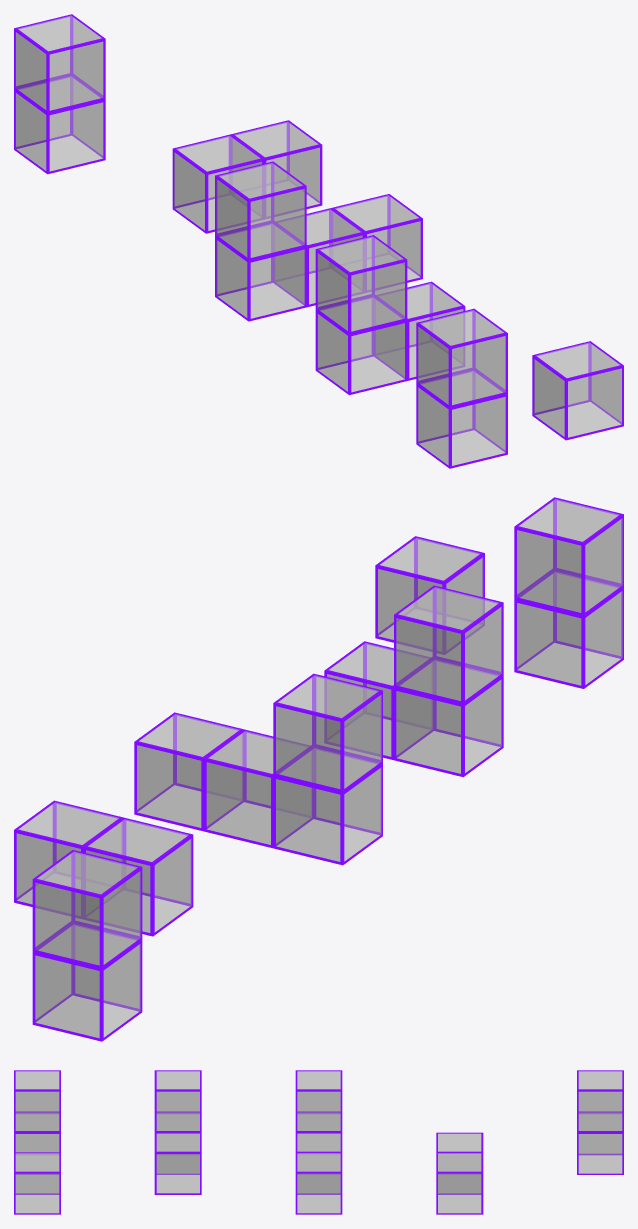
Rendered from (4)E Wall.fbx.
3 renders of one model, top to bottom at view 1: azimuth 30°, elevation 25°; view 2: azimuth 150°, elevation 25°; view 3: azimuth 270°, elevation 25°, orthographic. The views are drawn at different scales.
Visible parts, largest first — view 1: Wall.007, Wall.002, Wall.005, Wall.009, Wall.011, Wall.006, Wall.001, Wall.008, Wall.010, Wall.015, Wall.013, Wall.012 (+2 smaller); view 2: Wall.011, Wall.007, Wall.009, Wall.002, Wall.010, Wall.001, Wall.006, Wall.008, Wall.014, Wall.013, Wall.015, Wall.005 (+2 smaller); view 3: Wall.007, Wall.009, Wall.014, Wall.016, Wall.012, Wall.002, Wall.005, Wall.011, Wall.010, Wall.006, Wall.001, Wall.015 (+2 smaller).
Boxes of the visible parts, bbox=[...] form: Wall.007: bbox=[315, 235, 407, 334]; Wall.002: bbox=[416, 308, 507, 407]; Wall.005: bbox=[532, 341, 623, 440]; Wall.009: bbox=[215, 161, 306, 260]; Wall.011: bbox=[14, 14, 105, 113]; Wall.006: bbox=[315, 296, 407, 395]; Wall.001: bbox=[416, 369, 507, 468]; Wall.008: bbox=[215, 222, 306, 321]; Wall.010: bbox=[14, 75, 105, 174]; Wall.015: bbox=[172, 134, 264, 233]; Wall.013: bbox=[273, 208, 364, 307]; Wall.012: bbox=[374, 281, 465, 380]; Wall.011: bbox=[32, 850, 142, 968]; Wall.007: bbox=[394, 585, 503, 704]; Wall.009: bbox=[273, 673, 382, 792]; Wall.002: bbox=[514, 497, 623, 616]; Wall.010: bbox=[32, 923, 142, 1041]; Wall.001: bbox=[514, 570, 623, 688]; Wall.006: bbox=[394, 658, 503, 777]; Wall.008: bbox=[273, 746, 382, 865]; Wall.014: bbox=[134, 712, 243, 831]; Wall.013: bbox=[204, 729, 313, 848]; Wall.015: bbox=[83, 817, 193, 936]; Wall.005: bbox=[375, 536, 484, 654]; Wall.007: bbox=[154, 1070, 201, 1132]; Wall.009: bbox=[295, 1070, 342, 1132]; Wall.014: bbox=[295, 1152, 342, 1214]; Wall.016: bbox=[436, 1152, 483, 1214]; Wall.012: bbox=[154, 1132, 201, 1194]; Wall.002: bbox=[14, 1070, 60, 1132]; Wall.005: bbox=[14, 1152, 60, 1214]; Wall.011: bbox=[577, 1070, 623, 1132]; Wall.010: bbox=[577, 1112, 623, 1174]; Wall.006: bbox=[156, 1112, 199, 1174]; Wall.001: bbox=[14, 1112, 60, 1174]; Wall.015: bbox=[436, 1132, 483, 1188].
Size of the model in its own units: 600 by 400 by 2600.
